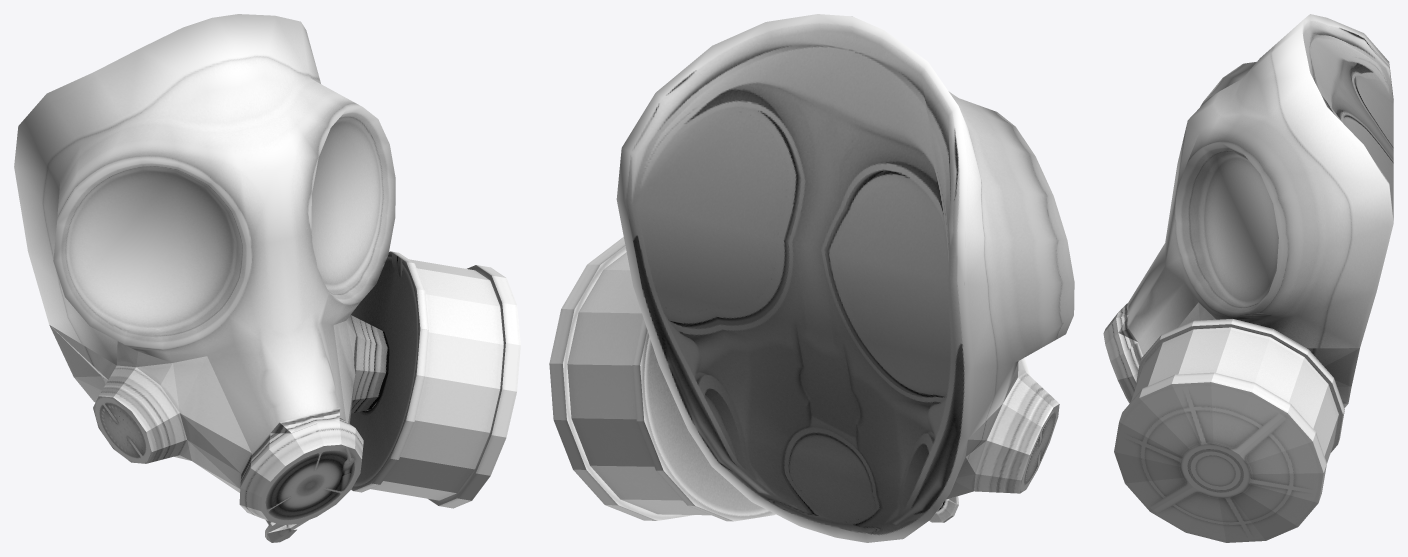
File: gasmaskV2_5_notex.obj
3 views of the same model, side by side, from view 1: azimuth 30°, elevation 25°; view 2: azimuth 150°, elevation 25°; view 3: azimuth 270°, elevation 25° (orthographic). The views are drawn at different scales.
Parts seen in each view (by area): view 1: MaskLowPoly_Plane; view 2: MaskLowPoly_Plane; view 3: MaskLowPoly_Plane.
Boxes of the visible parts, left/top/right/bottom form: MaskLowPoly_Plane: left=14, top=14, right=520, bottom=542; MaskLowPoly_Plane: left=549, top=14, right=1074, bottom=542; MaskLowPoly_Plane: left=1103, top=14, right=1393, bottom=542.
Bounding box in the file's own units: 21.09 × 23.41 × 14.1.
